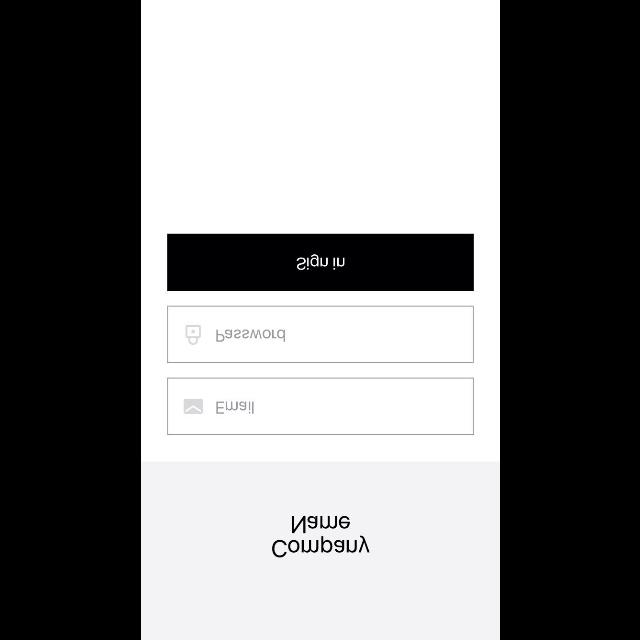icon: (185, 324, 201, 346), (184, 398, 202, 414)
input: (167, 305, 473, 363), (167, 378, 473, 434)
text: (272, 516, 370, 558), (216, 328, 284, 342), (216, 401, 254, 414)
textbutton: (167, 233, 473, 290)
